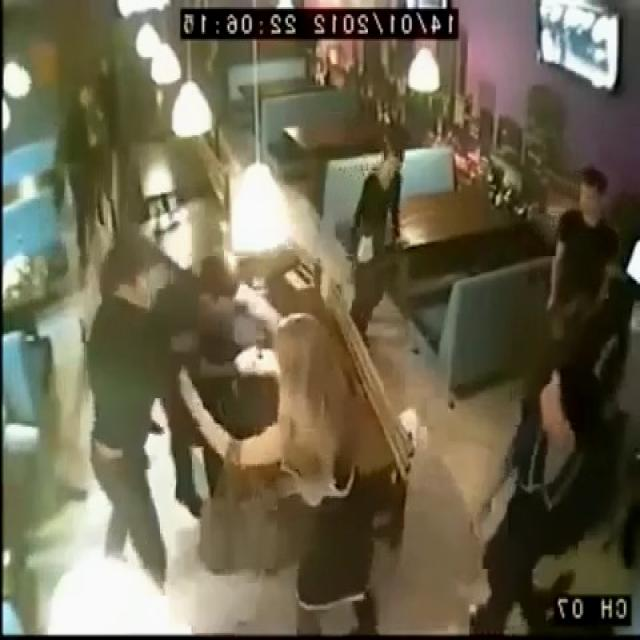fight: (94, 235, 380, 640)
